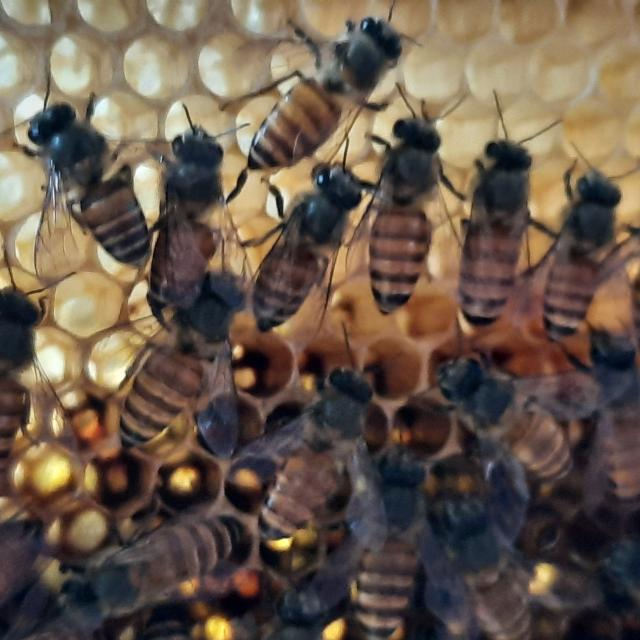honeybee: (289, 445, 465, 640), (229, 355, 381, 553), (87, 278, 237, 461), (66, 486, 246, 638), (417, 348, 615, 479), (18, 103, 147, 284), (234, 26, 407, 150), (243, 158, 366, 324), (413, 483, 533, 640), (544, 166, 634, 321), (374, 101, 438, 317), (160, 121, 232, 310), (571, 330, 640, 508), (456, 136, 521, 321), (0, 267, 46, 488), (1, 501, 69, 626)
